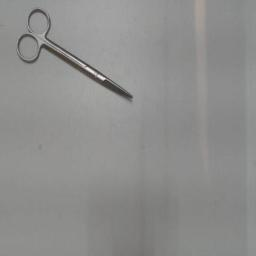Curved Mayo Scissors: (12, 1, 136, 103)
